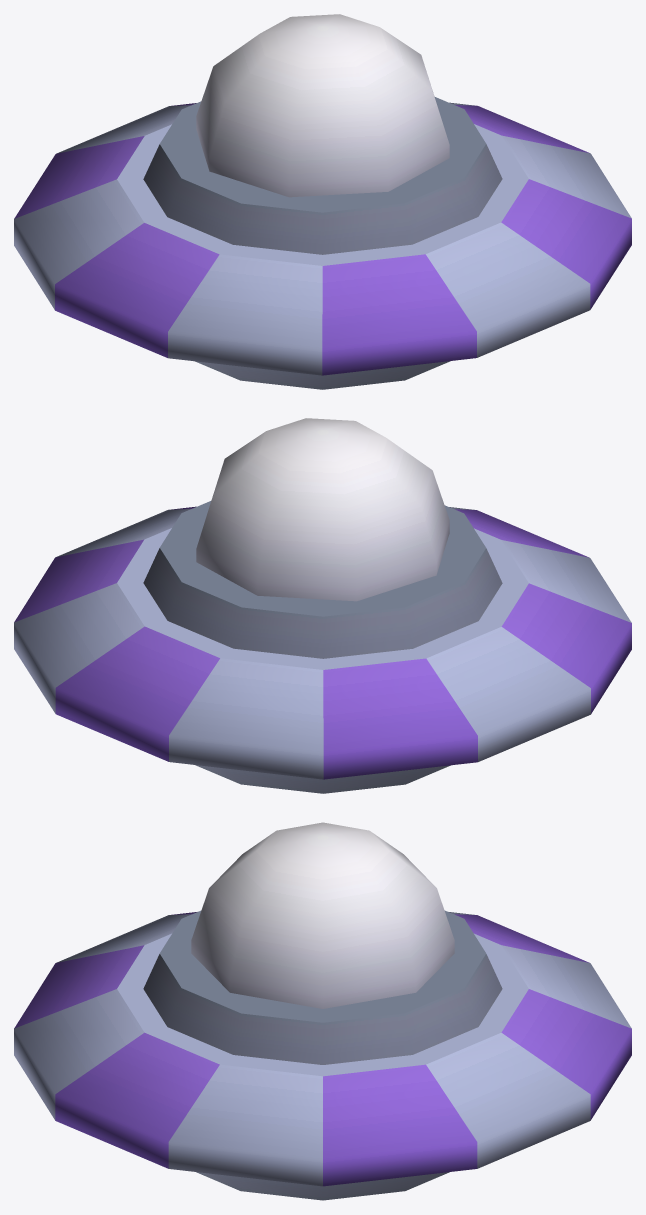
Rendered from k-tower-defense-enemy-ufo-c.glb.
The picture shows the model from 3 angles, top to bottom: view 1: azimuth 30°, elevation 25°; view 2: azimuth 150°, elevation 25°; view 3: azimuth 270°, elevation 25°; orthographic projection.
Parts seen in each view (by area): view 1: enemy-ufo-c; view 2: enemy-ufo-c; view 3: enemy-ufo-c.
Part boxes in pixels (x1,y1,x2,y2): enemy-ufo-c: (14,14,631,389); enemy-ufo-c: (14,418,631,793); enemy-ufo-c: (14,822,631,1200).
Bounding box in the file's own units: 1 × 0.5254 × 1.
Materials: 1 (1 with a texture image).
